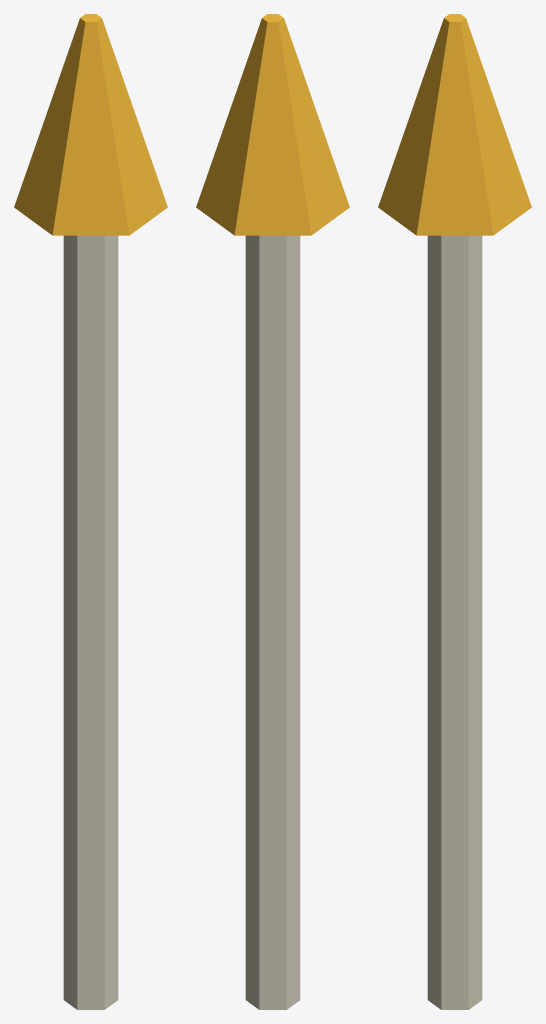
File: bone_torch.dae
3 views of the same model, side by side, from view 1: azimuth 30°, elevation 25°; view 2: azimuth 150°, elevation 25°; view 3: azimuth 270°, elevation 25° (orthographic).
Parts seen in each view (by area): view 1: Cylinder, Cone; view 2: Cylinder, Cone; view 3: Cylinder, Cone.
Boxes of the visible parts, x1,y1,x2,y2 form: Cylinder: [63, 235, 118, 1009]; Cone: [14, 14, 167, 235]; Cylinder: [245, 235, 300, 1009]; Cone: [196, 14, 349, 235]; Cylinder: [427, 235, 482, 1009]; Cone: [378, 14, 531, 235].
Size of the model in its own units: 24.25 by 28 by 197.
